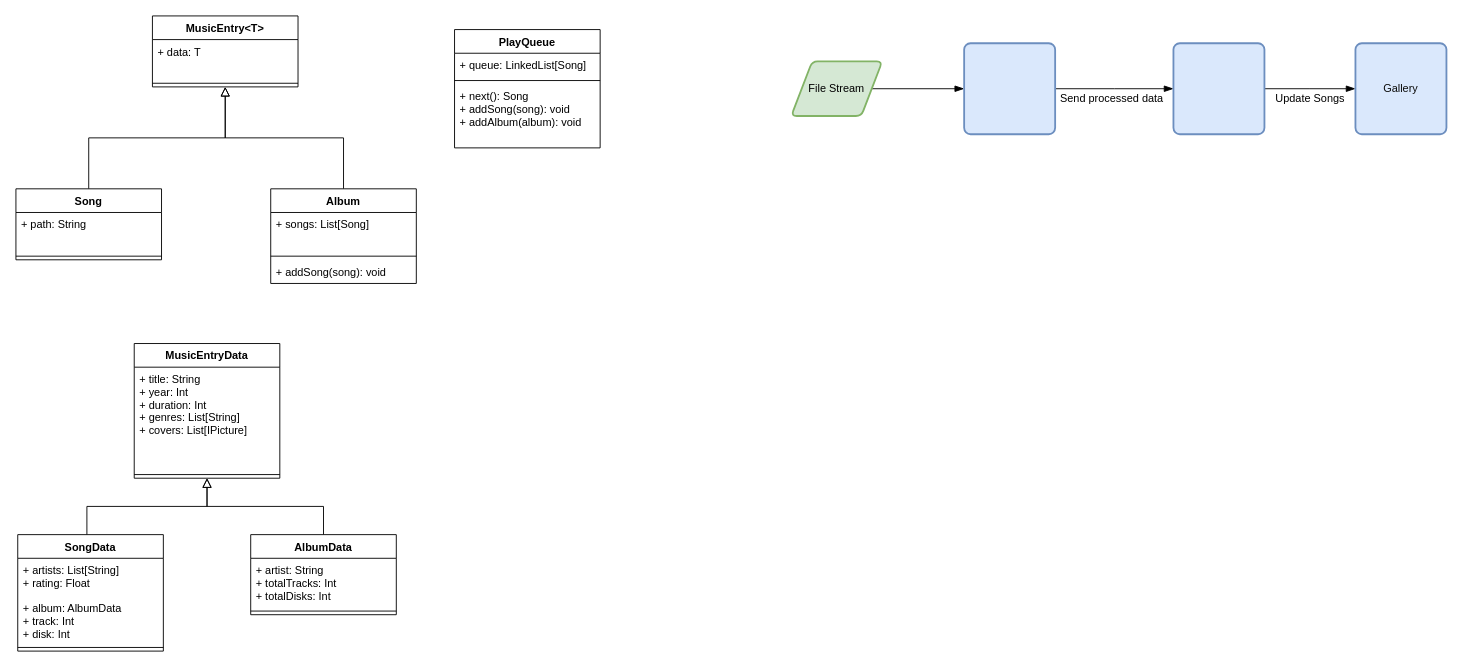
The diagram is 1463 pixels wide and 667 high, and some of its shapes have lost their labels. The centre of each missing label's shape, as x and y in pixels:
"File Stream Processor" belongs at (x=1009, y=88).
"Song Data" belongs at (x=1218, y=88).
